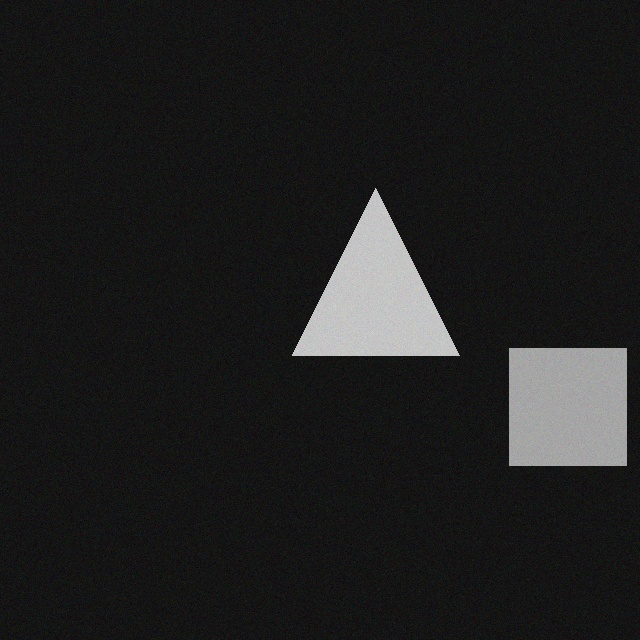square: (495, 353, 612, 470)
triangle: (278, 193, 445, 360)
